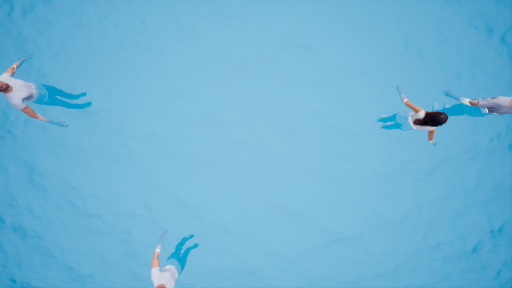person: (1, 48, 91, 130), (380, 87, 448, 145), (148, 230, 200, 288), (451, 82, 512, 130)
